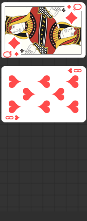10H: (67, 67, 83, 74)
